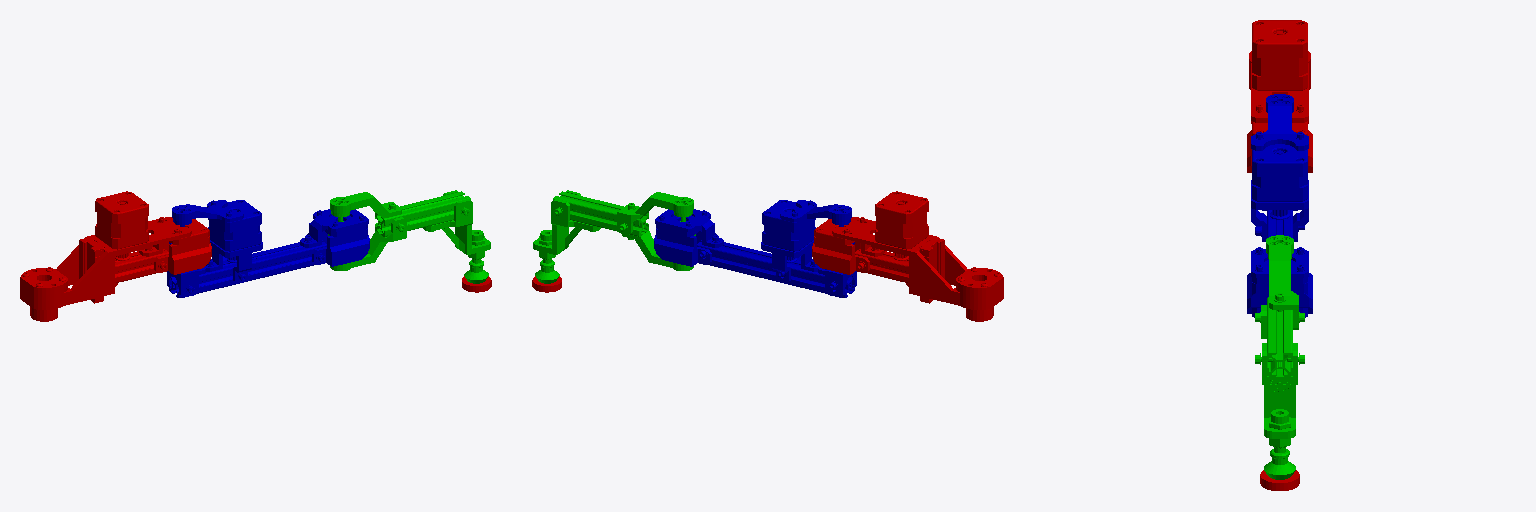
robot.urdf — scara:
<?xml version="1.0" encoding="utf-8"?>
<!-- =================================================================================== -->
<!-- |    This document was autogenerated by xacro from scara.xacro                    | -->
<!-- |    EDITING THIS FILE BY HAND IS NOT RECOMMENDED                                 | -->
<!-- =================================================================================== -->
<robot name="scara">
  <material name="black">
    <color rgba="0.0 0.0 0.0 1.0"/>
  </material>
  <material name="blue">
    <color rgba="0.0 0.0 0.8 1.0"/>
  </material>
  <material name="green">
    <color rgba="0.0 0.8 0.0 1.0"/>
  </material>
  <material name="gray">
    <color rgba="0.7 0.7 0.7 1.0"/>
  </material>
  <material name="darkgray">
    <color rgba="0.3 0.3 0.3 1.0"/>
  </material>
  <material name="red">
    <color rgba="0.8 0.0 0.0 1.0"/>
  </material>
  <material name="white">
    <color rgba="1.0 1.0 1.0 1.0"/>
  </material>
  <material name="yellow">
    <color rgba="0.8 0.8 0.0 1.0"/>
  </material>
  <transmission name="Slider1_tran">
    <type>transmission_interface/SimpleTransmission</type>
    <joint name="Slider1">
      <hardwareInterface>hardware_interface/EffortJointInterface</hardwareInterface>
    </joint>
    <actuator name="Slider1_actr">
      <hardwareInterface>hardware_interface/EffortJointInterface</hardwareInterface>
      <mechanicalReduction>1</mechanicalReduction>
    </actuator>
  </transmission>
  <transmission name="Rev2_tran">
    <type>transmission_interface/SimpleTransmission</type>
    <joint name="Rev2">
      <hardwareInterface>hardware_interface/EffortJointInterface</hardwareInterface>
    </joint>
    <actuator name="Rev2_actr">
      <hardwareInterface>hardware_interface/EffortJointInterface</hardwareInterface>
      <mechanicalReduction>1</mechanicalReduction>
    </actuator>
  </transmission>
  <transmission name="Rev3_tran">
    <type>transmission_interface/SimpleTransmission</type>
    <joint name="Rev3">
      <hardwareInterface>hardware_interface/EffortJointInterface</hardwareInterface>
    </joint>
    <actuator name="Rev3_actr">
      <hardwareInterface>hardware_interface/EffortJointInterface</hardwareInterface>
      <mechanicalReduction>1</mechanicalReduction>
    </actuator>
  </transmission>
  <gazebo>
    <plugin filename="libgazebo_ros_control.so" name="control"/>
  </gazebo>
  <gazebo reference="base_link">
    <material>Gazebo/Silver</material>
    <mu1>0.2</mu1>
    <mu2>0.2</mu2>
    <selfCollide>true</selfCollide>
    <gravity>true</gravity>
  </gazebo>
  <gazebo reference="link1">
    <material>Gazebo/Silver</material>
    <mu1>0.2</mu1>
    <mu2>0.2</mu2>
    <selfCollide>true</selfCollide>
  </gazebo>
  <gazebo reference="link2">
    <material>Gazebo/Silver</material>
    <mu1>0.2</mu1>
    <mu2>0.2</mu2>
    <selfCollide>true</selfCollide>
  </gazebo>
  <gazebo reference="link3">
    <material>Gazebo/Silver</material>
    <mu1>0.2</mu1>
    <mu2>0.2</mu2>
    <selfCollide>true</selfCollide>
  </gazebo>
  <link name="base_link">
    <inertial>
      <origin rpy="0.0 0.0 0.0" xyz="0.0 0.0 0.0"/>
      <mass value="0.5"/>
      <inertia ixx="0.0" ixy="0.0" ixz="0.0" iyy="0.0" iyz="0.0" izz="0.0"/>
    </inertial>
    <visual>
      <origin rpy="0.0 0.0 0.0" xyz="0.0 0.0 0.0"/>
      <geometry>
        <mesh filename="package://scara_description_pkg/meshes/base_link.stl" scale="0.001 0.001 0.001"/>
      </geometry>
      <material name="gray"/>
    </visual>
    <collision>
      <origin rpy="0.0 0.0 0.0" xyz="0.0 0.0 0.0"/>
      <geometry>
        <mesh filename="package://scara_description_pkg/meshes/base_link.stl" scale="0.001 0.001 0.001"/>
      </geometry>
    </collision>
  </link>
  <link name="link1">
    <inertial>
      <origin rpy="0.0 0.0 0.0" xyz="0.0 0.0 0.000"/>
      <mass value="0.2"/>
      <inertia ixx="0.0" ixy="0.0" ixz="0.0" iyy="0.0" iyz="0.0" izz="0.0"/>
    </inertial>
    <visual>
      <origin rpy="0.0 0.0 0.0" xyz="0.0 0.0 0.0"/>
      <geometry>
        <mesh filename="package://scara_description_pkg/meshes/link1.stl" scale="0.001 0.001 0.001"/>
      </geometry>
      <material name="red"/>
    </visual>
    <collision>
      <origin rpy="0.0 0.0 0.0" xyz="0.0 0.0 0.0"/>
      <geometry>
        <mesh filename="package://scara_description_pkg/meshes/link1.stl" scale="0.001 0.001 0.001"/>
      </geometry>
    </collision>
  </link>
  <link name="link2">
    <inertial>
      <origin rpy="0.0 0.0 0.0" xyz="0.16015 0.0 0.0168"/>
      <mass value="0.18"/>
      <inertia ixx="0.0" ixy="0.0" ixz="0.0" iyy="0.0" iyz="0.0" izz="0.0"/>
    </inertial>
    <visual>
      <origin rpy="0.0 0.0 0.0" xyz="0.0 0.0 0.0"/>
      <geometry>
        <mesh filename="package://scara_description_pkg/meshes/link2.stl" scale="0.001 0.001 0.001"/>
      </geometry>
      <material name="blue"/>
    </visual>
    <collision>
      <origin rpy="0.0 0.0 0.0" xyz="0.0 0.0 0.0"/>
      <geometry>
        <mesh filename="package://scara_description_pkg/meshes/link2.stl" scale="0.001 0.001 0.001"/>
      </geometry>
    </collision>
  </link>
  <link name="link3">
    <inertial>
      <origin rpy="0.0 0.0 0.0" xyz="0.18265 0.0 0.0317"/>
      <mass value="0.08"/>
      <inertia ixx="0.0" ixy="0.0" ixz="0.0" iyy="0.0" iyz="0.0" izz="0.0"/>
    </inertial>
    <visual>
      <origin rpy="0.0 0.0 0.0" xyz="0.0 0.0 0.0"/>
      <geometry>
        <mesh filename="package://scara_description_pkg/meshes/link3.stl" scale="0.001 0.001 0.001"/>
      </geometry>
      <material name="green"/>
    </visual>
    <collision>
      <origin rpy="0.0 0.0 0.0" xyz="0.0 0.0 0.0"/>
      <geometry>
        <mesh filename="package://scara_description_pkg/meshes/link3.stl" scale="0.001 0.001 0.001"/>
      </geometry>
    </collision>
  </link>
  <link name="gripper">
    <inertial>
      <origin rpy="0.0 0.0 0.0" xyz="0.0 0.0 0.0"/>
      <mass value="0.08"/>
      <inertia ixx="0.0" ixy="0.0" ixz="0.0" iyy="0.0" iyz="0.0" izz="0.0"/>
    </inertial>
    <visual>
      <origin rpy="0.0 0.0 0.0" xyz="0.0 0.0 0"/>
      <geometry>
        <cylinder length="0.007" radius="0.015"/>
      </geometry>
      <material name="red"/>
    </visual>
  </link>
  <joint name="Slider1" type="prismatic">
    <origin rpy="0.0 0.0 0.0" xyz="0.0 0.0 0.0"/>
    <parent link="base_link"/>
    <child link="link1"/>
    <axis xyz="0.0 0.0 1.0"/>
    <limit effort="100" lower="0.08" upper="0.310" velocity="100"/>
  </joint>
  <joint name="Rev2" type="revolute">
    <origin rpy="0.0 0.0 0.0" xyz="0.16015 0.0 0.0168"/>
    <parent link="link1"/>
    <child link="link2"/>
    <axis xyz="0.0 0.0 1.0"/>
    <limit effort="100" lower="-2.094395" upper="2.094395" velocity="100"/>
  </joint>
  <joint name="Rev3" type="revolute">
    <origin rpy="0.0 0.0 0.0" xyz="0.18265 0.0 -0.0317"/>
    <parent link="link2"/>
    <child link="link3"/>
    <axis xyz="0.0 0.0 1.0"/>
    <limit effort="100" lower="-2.443461" upper="2.443461" velocity="100"/>
  </joint>
  <joint name="Fixed4" type="fixed">
    <origin rpy="0.0 0.0 0.0" xyz="0.157 0.0 -0.0973"/>
    <parent link="link3"/>
    <child link="gripper"/>
  </joint>
</robot>

--- What the picture shows (computed from the rendered views, not written in the file) ---
The picture shows the robot from 3 angles, left to right: view 1: azimuth 30°, elevation 25°; view 2: azimuth 150°, elevation 25°; view 3: azimuth 270°, elevation 25°; orthographic projection.
Model scara with 5 links and 4 joints (2 revolute, 1 prismatic, 1 fixed), rooted at base_link, posed all joints at 0 but 1 set to mid-range because 0 is outside their limits (Slider1 = 0.195).
Visible links, largest first — view 1: link1, link2, link3; view 2: link1, link2, link3; view 3: link2, link3, link1, gripper.
Link boxes in pixels (x1,y1,x2,y2): link1: [20, 191, 211, 321]; link2: [167, 200, 369, 297]; link3: [328, 190, 490, 283]; link1: [812, 191, 1003, 321]; link2: [654, 200, 856, 297]; link3: [533, 190, 695, 283]; link2: [1247, 94, 1312, 317]; link3: [1255, 235, 1304, 479]; link1: [1247, 20, 1312, 172]; gripper: [1260, 470, 1299, 490].
Size in the robot's own frame: 0.5348 by 0.05 by 0.1882 metres.
3 mesh visuals loaded from 4 distinct referenced files (3 binary STL); not drawn: 1 (reference not matched to a file when rendering).